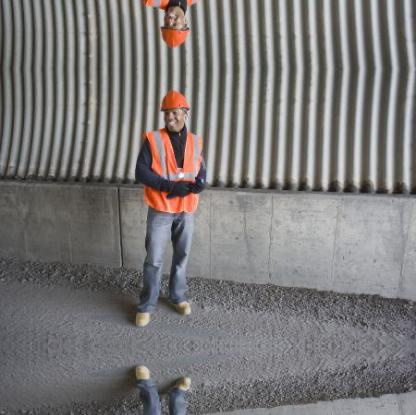Safety Helmet: (154, 87, 198, 136), (157, 3, 194, 50)
